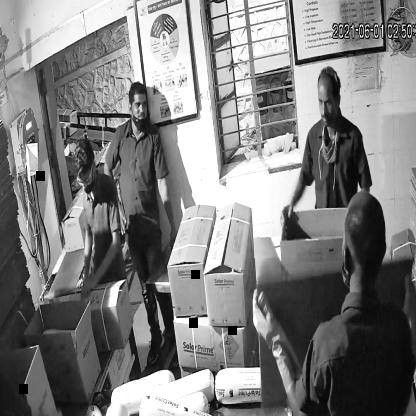goggles: (70, 164, 99, 189)
no_goggles: (315, 89, 345, 112)
